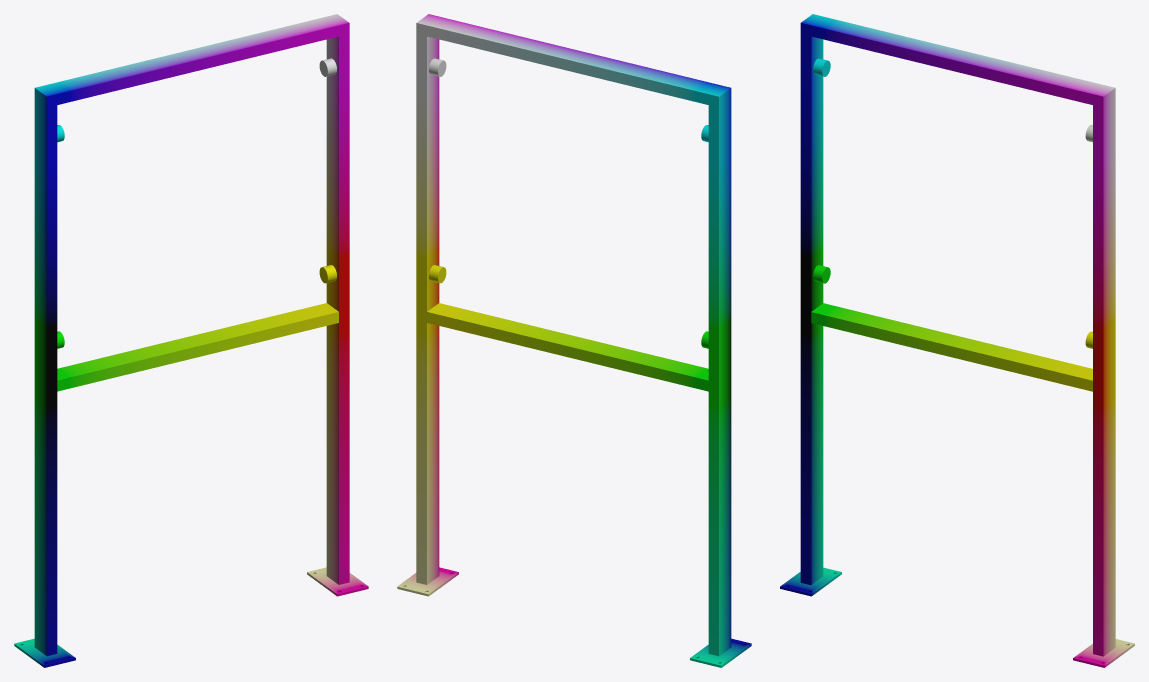
File: Frame.glb
3 renders of one model, left to right at view 1: azimuth 30°, elevation 25°; view 2: azimuth 150°, elevation 25°; view 3: azimuth 330°, elevation 25°, orthographic.
Visible parts, largest first — view 1: Modell_20_311_gestell_base, Modell_20_311_quertraverse_base, Modell_20_311_bodenplatte_base, Modell_20_311_distanz_base; view 2: Modell_20_311_gestell_base, Modell_20_311_quertraverse_base, Modell_20_311_bodenplatte_base, Modell_20_311_distanz_base; view 3: Modell_20_311_gestell_base, Modell_20_311_quertraverse_base, Modell_20_311_bodenplatte_base, Modell_20_311_distanz_base.
Boxes of the visible parts, x1,y1,x2,y2 form: Modell_20_311_gestell_base: [34, 14, 349, 656]; Modell_20_311_quertraverse_base: [57, 303, 338, 391]; Modell_20_311_bodenplatte_base: [14, 567, 368, 667]; Modell_20_311_distanz_base: [57, 58, 336, 348]; Modell_20_311_gestell_base: [416, 14, 731, 656]; Modell_20_311_quertraverse_base: [427, 303, 708, 391]; Modell_20_311_bodenplatte_base: [397, 567, 751, 667]; Modell_20_311_distanz_base: [429, 58, 708, 348]; Modell_20_311_gestell_base: [800, 14, 1115, 656]; Modell_20_311_quertraverse_base: [811, 303, 1092, 391]; Modell_20_311_bodenplatte_base: [780, 567, 1134, 667]; Modell_20_311_distanz_base: [813, 58, 1092, 348].
Size of the model in its own units: 1.23 by 2.04 by 0.2.
